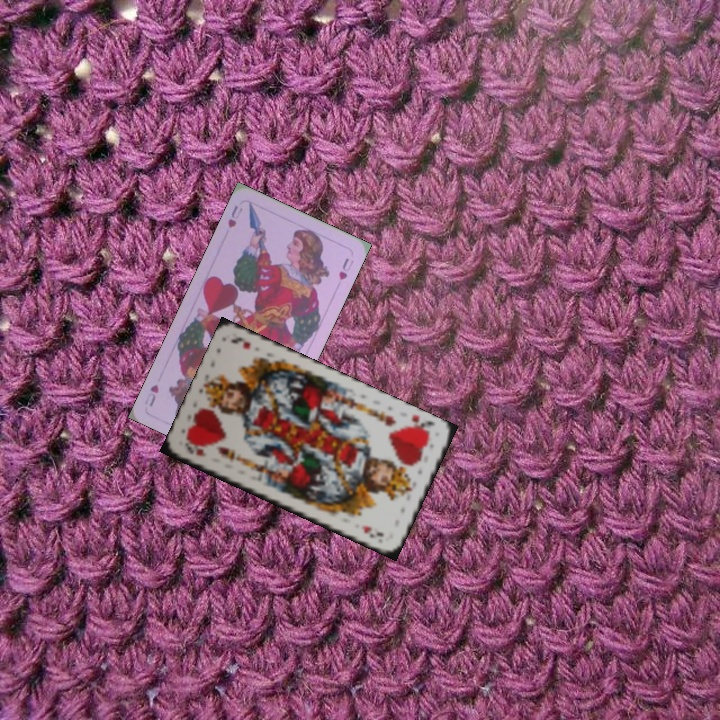HK: (402, 410, 438, 437), (181, 438, 209, 459)
HU: (223, 201, 245, 230)
